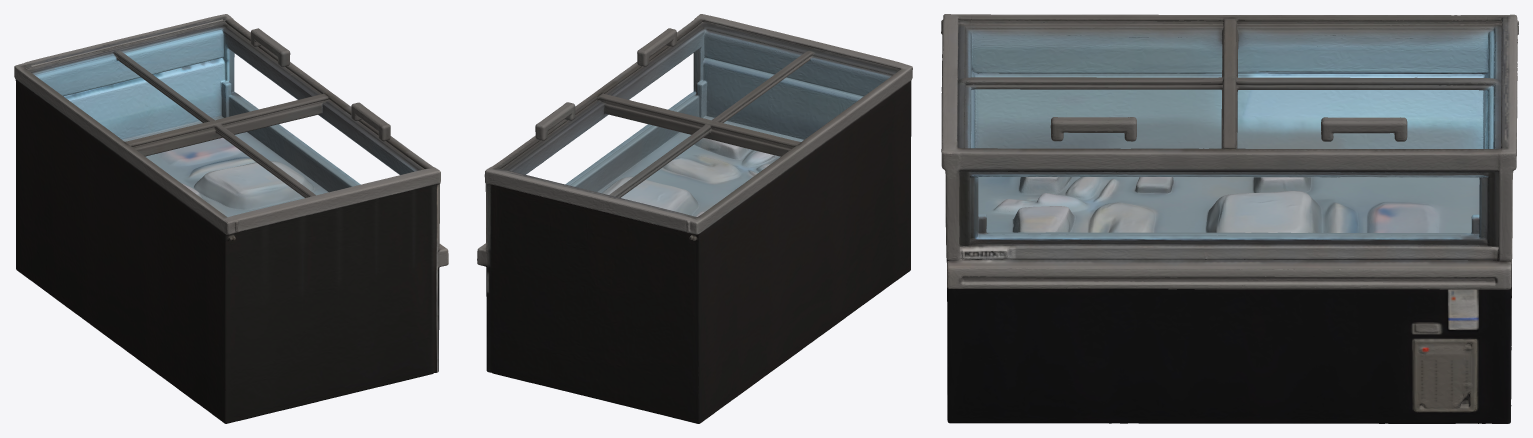
3 views of the same model, side by side, from view 1: azimuth 30°, elevation 25°; view 2: azimuth 150°, elevation 25°; view 3: azimuth 270°, elevation 25° (orthographic). The views are drawn at different scales.
Parts seen in each view (by area): view 1: Mesh_0; view 2: Mesh_0; view 3: Mesh_0.
Boxes of the visible parts, left/top/right/bottom form: Mesh_0: left=14, top=14, right=448, bottom=423; Mesh_0: left=477, top=14, right=912, bottom=423; Mesh_0: left=941, top=14, right=1518, bottom=423.
Size of the model in its own units: 1.07 by 1.01 by 1.79.
Materials: 1 (1 with a texture image).
